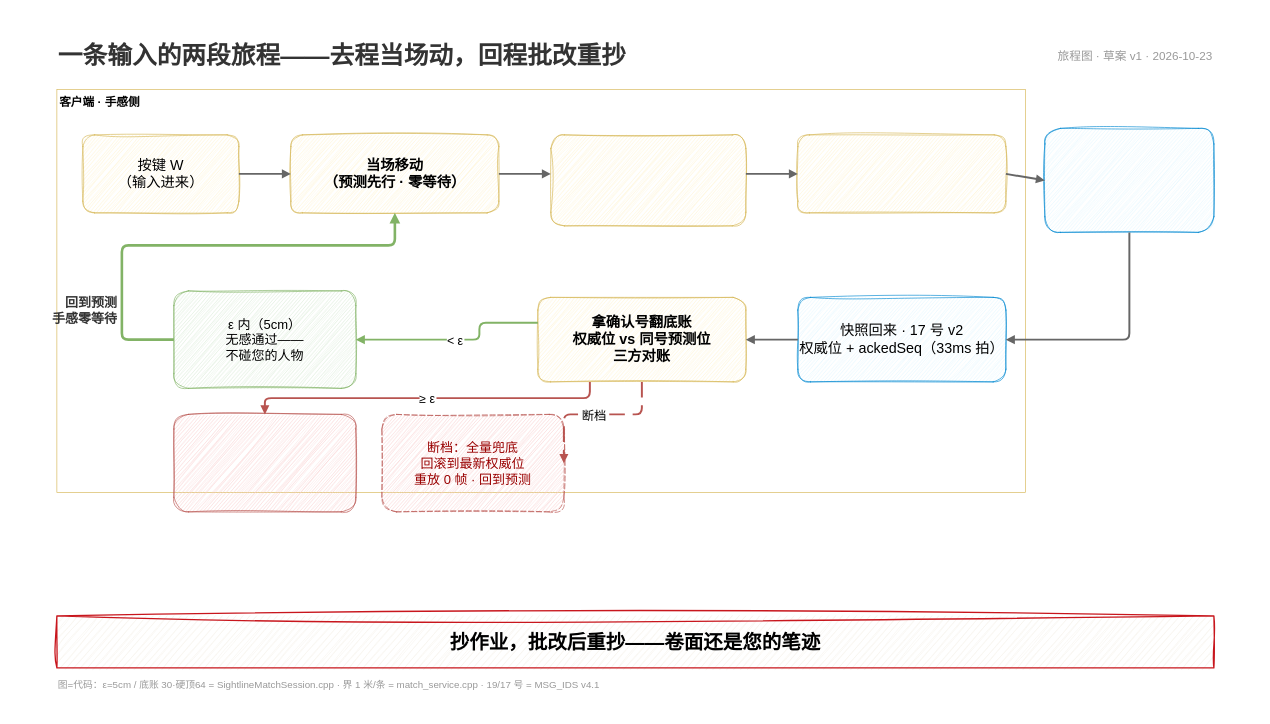
Some shapes in this 1270 by 724 pixel diagram are drawn without their labels. The shapes that lost their labels are listed below. From the top down, each one's box as (x1, y1, x2, y2) in pixels, then its label:
(550, 134, 746, 226): 落底账 (seq, 位置, 朝向) 1s × 30 条 · 硬顶 64
(797, 134, 1006, 213): 19 号上行 30Hz · 25B · 只报意图
(1044, 128, 1214, 232): 服务器 · 批改部（唯一出场） 权威位 = 上次权威位 + 钳后增量 界 = 1 米/条 · 瞬移钳回
(173, 414, 356, 512): 超 ε：回滚 + 重放 摆回权威位 → 重放其后输入 → 回到预测
